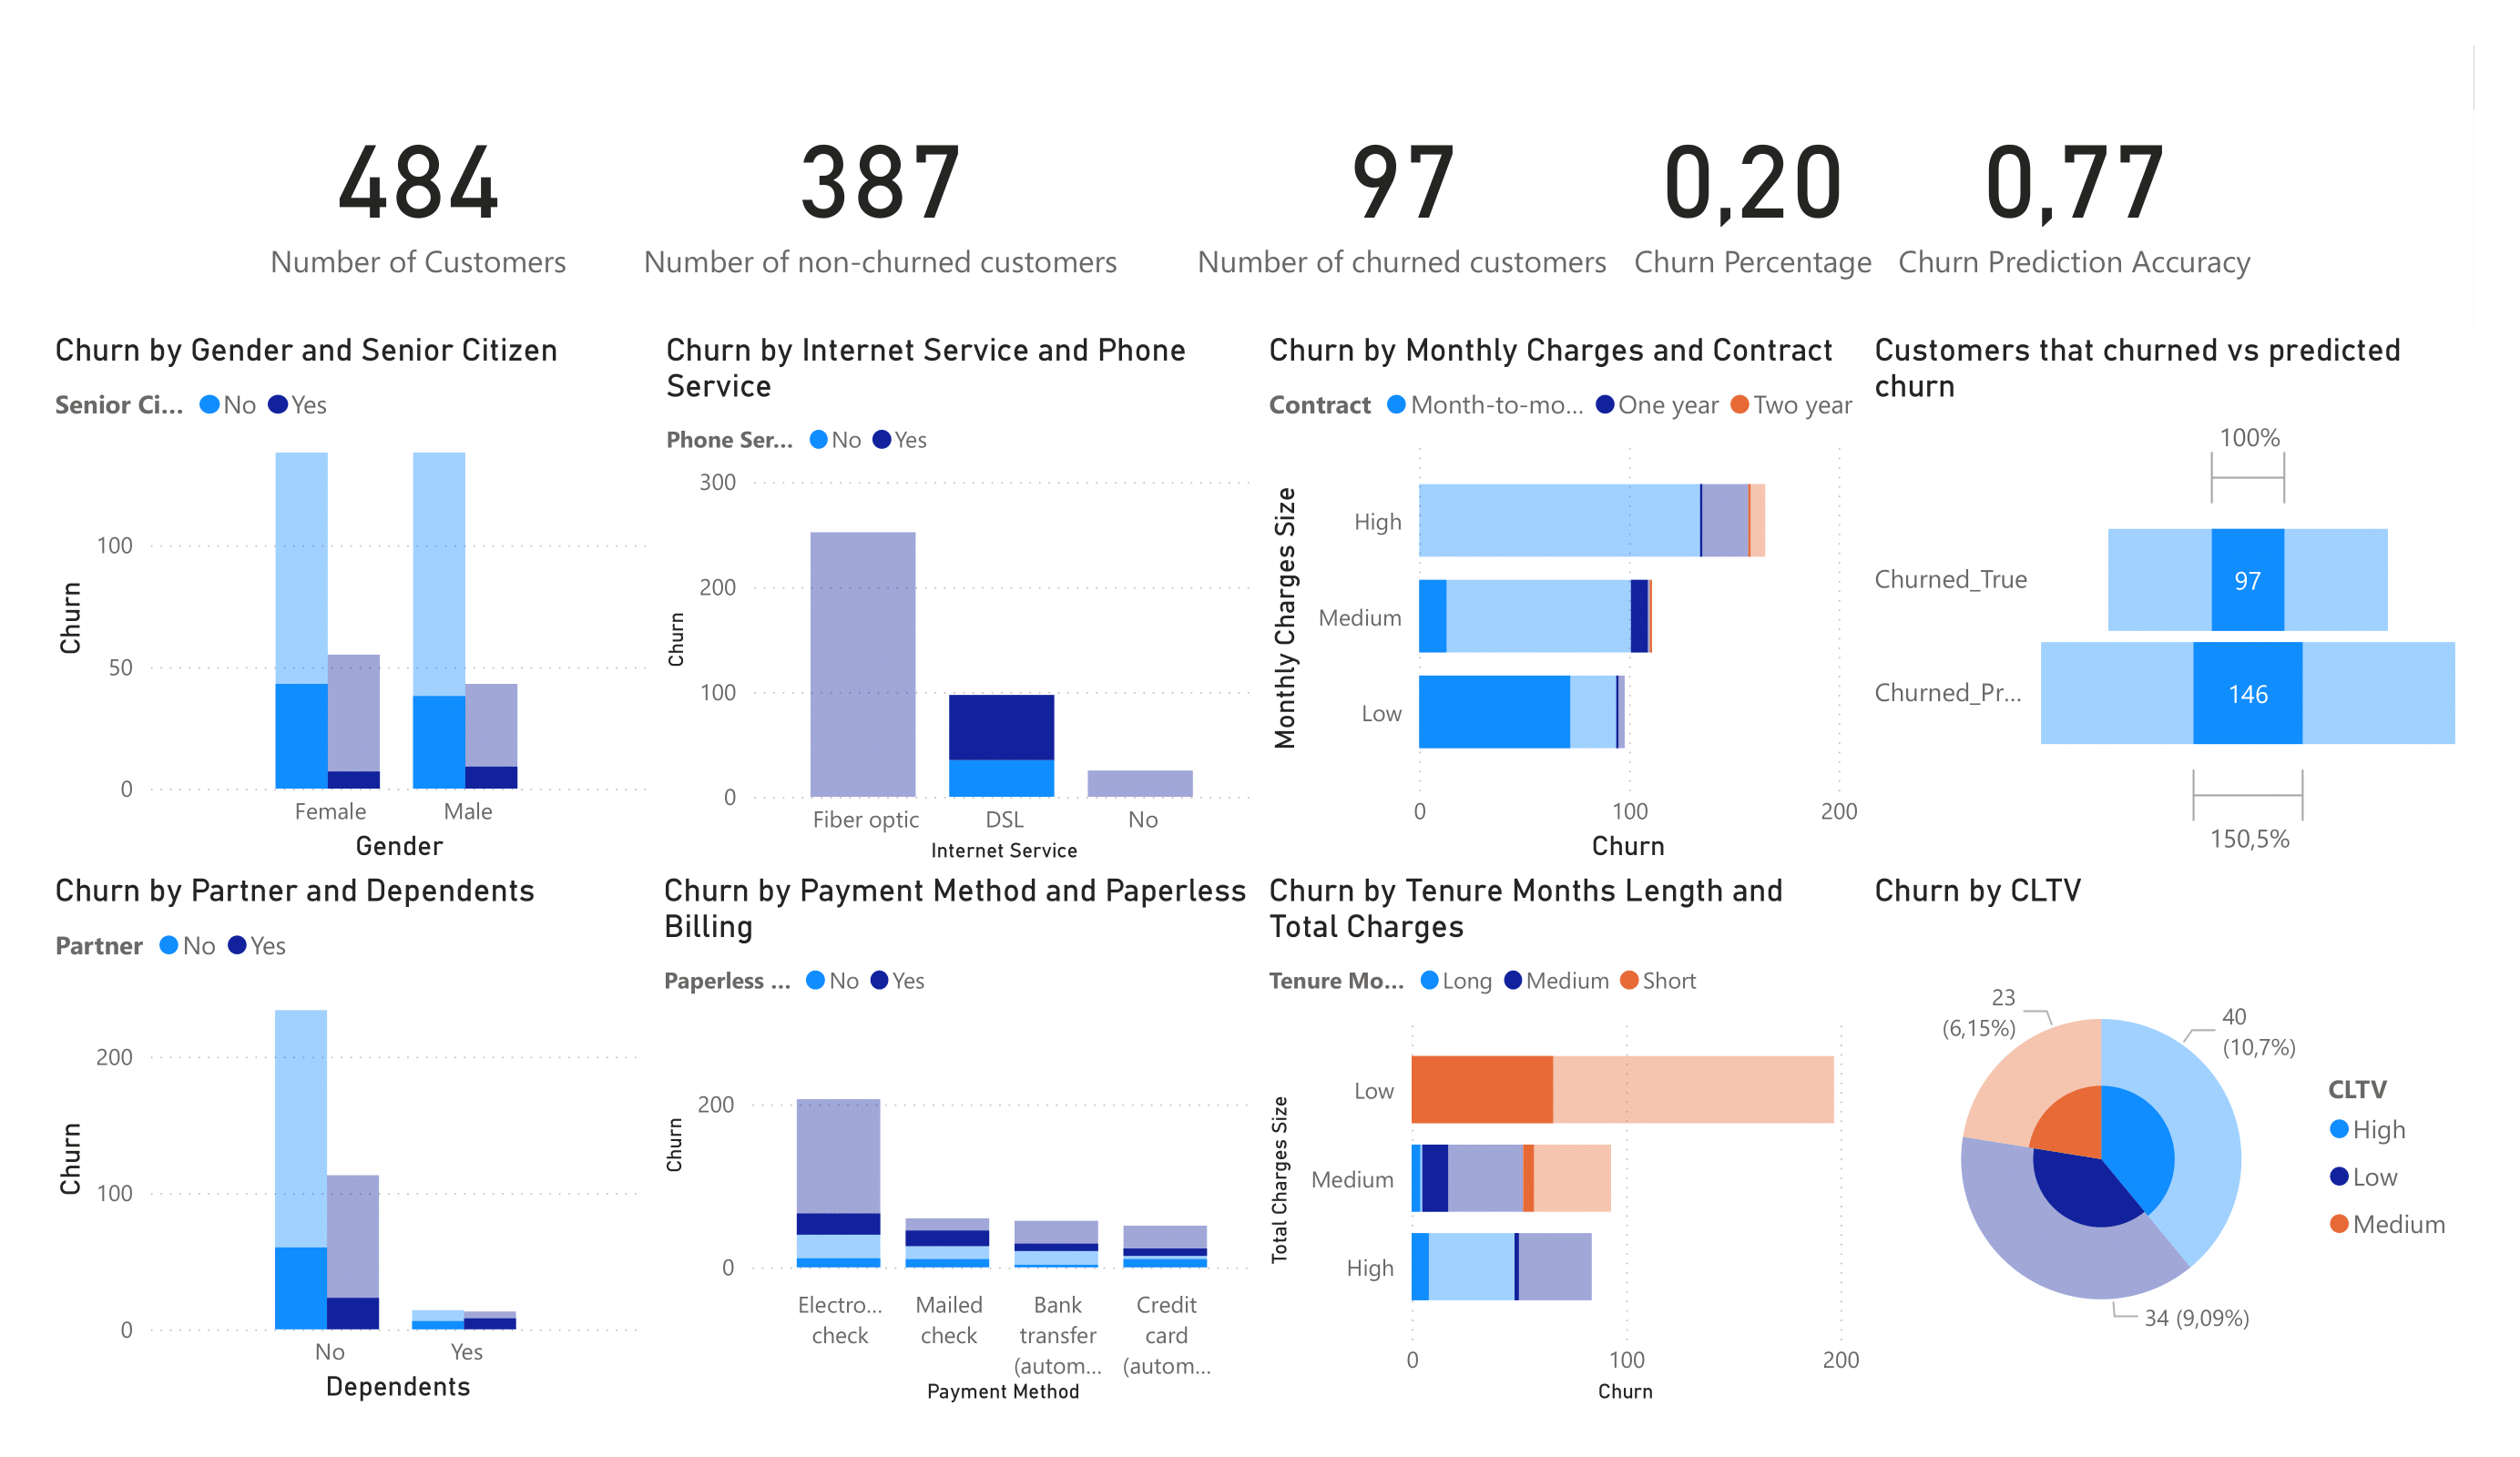

The page's visual inventory and layout, read from the dashboard file:
{"tool":"powerbi","page":{"name":"Side 1","canvas":[1280,720],"ordinal":0},"visuals":[{"type":"card","fields":{"Values":["Avg(Forespørgsel1.y_true)"]},"box":[829.7,0,140.1,149.8],"z":0},{"type":"pieChart","title":"Churn by CLTV","fields":{"Y":["Sum(Attributes.y_true)"],"Category":["Attributes.CLTV Size"]},"box":[959,434.8,321,285],"z":1000},{"type":"card","fields":{"Values":["Attributes.Churn Prediction Accuracy"]},"box":[969.7,0,199.4,149.8],"z":2000},{"type":"barChart","title":"Churn by Tenure Months Length and Total Charges","fields":{"Category":["Attributes.Total Charges Size"],"Series":["Attributes.Tenure Months Length"],"Y":["Sum(Attributes.y_true)"]},"box":[640,434.8,321,285],"z":3000},{"type":"barChart","title":"Churn by Monthly Charges and Contract","fields":{"Category":["Attributes.Monthly Charges Size"],"Y":["Sum(Attributes.y_true)"],"Series":["Attributes.Contract"]},"box":[640,149.8,320,285],"z":4000},{"type":"columnChart","title":"Churn by Payment Method and Paperless Billing","fields":{"Category":["Attributes.Payment Method"],"Y":["Sum(Attributes.y_true)"],"Series":["Attributes.Paperless Billing"]},"box":[321,434.8,321,285],"z":5000},{"type":"columnChart","title":"Churn by Internet Service and Phone Service","fields":{"Category":["Attributes.Internet Service"],"Y":["Sum(Attributes.y_true)"],"Series":["Attributes.Phone Service"]},"box":[321.9,149.8,320,285],"z":6000},{"type":"clusteredColumnChart","title":"Churn by Partner and Dependents","fields":{"Category":["Attributes.Dependents"],"Series":["Attributes.Partner"],"Y":["Sum(Attributes.y_true)"]},"box":[0,434.8,321,285],"z":7000},{"type":"clusteredColumnChart","title":"Churn by Gender and Senior Citizen","fields":{"Category":["Attributes.Gender"],"Series":["Attributes.Senior Citizen"],"Y":["Sum(Attributes.y_true)"]},"box":[0,149.8,321.9,285],"z":8000},{"type":"funnel","title":"Customers that churned vs predicted churn","fields":{"Y":["Sum(Attributes.y_true)","Sum(Attributes.y_pred)"]},"box":[959,149.8,321,285],"z":9000},{"type":"card","fields":{"Values":["CountNonNull(Attributes.y_true)"]},"box":[110.9,0,171.2,149.8],"z":10000},{"type":"card","fields":{"Values":["CountNonNull(Attributes.y_true)"]},"box":[600.1,0,229.5,149.8],"z":11000},{"type":"card","fields":{"Values":["CountNonNull(Attributes.y_true)"]},"box":[280.1,0,320,149.8],"z":12000}]}

Visuals, with their boxes in screenshot pixels (x1, y1, x2, y2):
card - Avg(Forespørgsel1.y_true): [1764,66,2026,346]
"Churn by CLTV" pieChart: [2006,880,2519,1413]
card - Attributes.Churn Prediction Accuracy: [2026,66,2400,346]
"Churn by Tenure Months Length and Total Charges" barChart: [1409,880,2010,1413]
"Churn by Monthly Charges and Contract" barChart: [1409,346,2008,880]
"Churn by Payment Method and Paperless Billing" columnChart: [811,880,1413,1413]
"Churn by Internet Service and Phone Service" columnChart: [812,346,1412,880]
"Churn by Partner and Dependents" clusteredColumnChart: [210,880,811,1413]
"Churn by Gender and Senior Citizen" clusteredColumnChart: [210,346,812,880]
"Customers that churned vs predicted churn" funnel: [2006,346,2519,880]
card - CountNonNull(Attributes.y_true): [418,66,739,346]
card - CountNonNull(Attributes.y_true): [1334,66,1763,346]
card - CountNonNull(Attributes.y_true): [735,66,1334,346]
